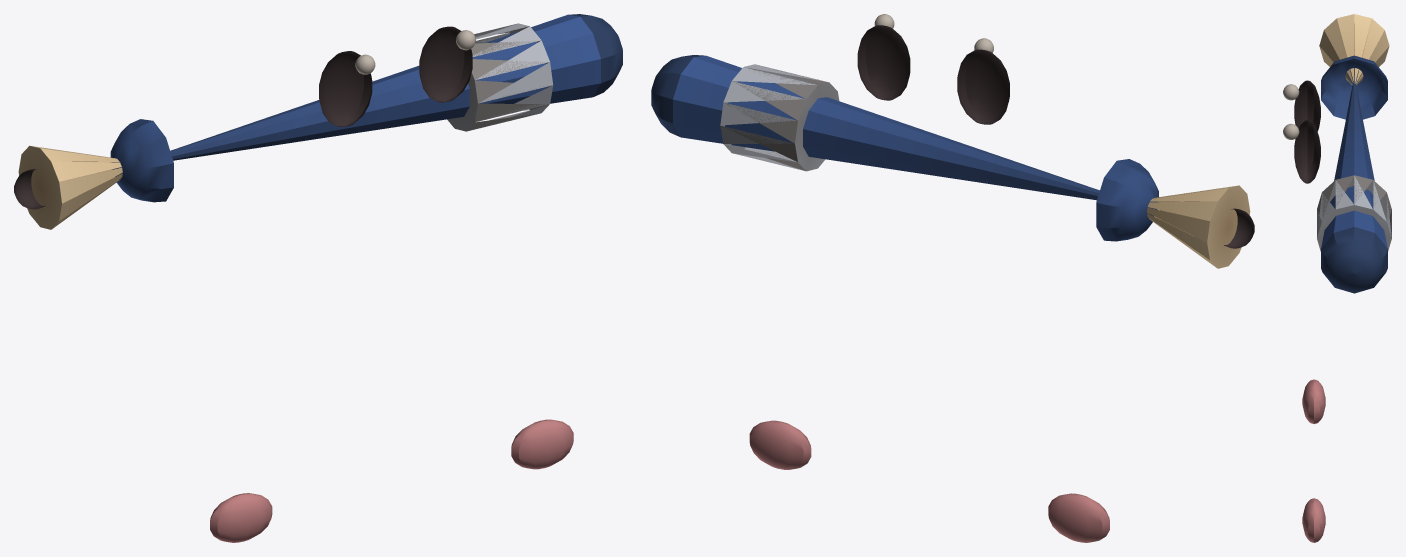
3 views of the same model, side by side, from view 1: azimuth 30°, elevation 25°; view 2: azimuth 150°, elevation 25°; view 3: azimuth 270°, elevation 25° (orthographic). The views are drawn at different scales.
Visible parts, largest first — view 1: pet_p1f5e511a; view 2: pet_p1f5e511a; view 3: pet_p1f5e511a.
Boxes of the visible parts, box(x1,y1,x2,y2) form: pet_p1f5e511a: box(14, 14, 622, 542); pet_p1f5e511a: box(651, 14, 1254, 542); pet_p1f5e511a: box(1283, 14, 1391, 542).
Bounding box in the file's own units: 0.4788 × 0.357 × 0.0929.
